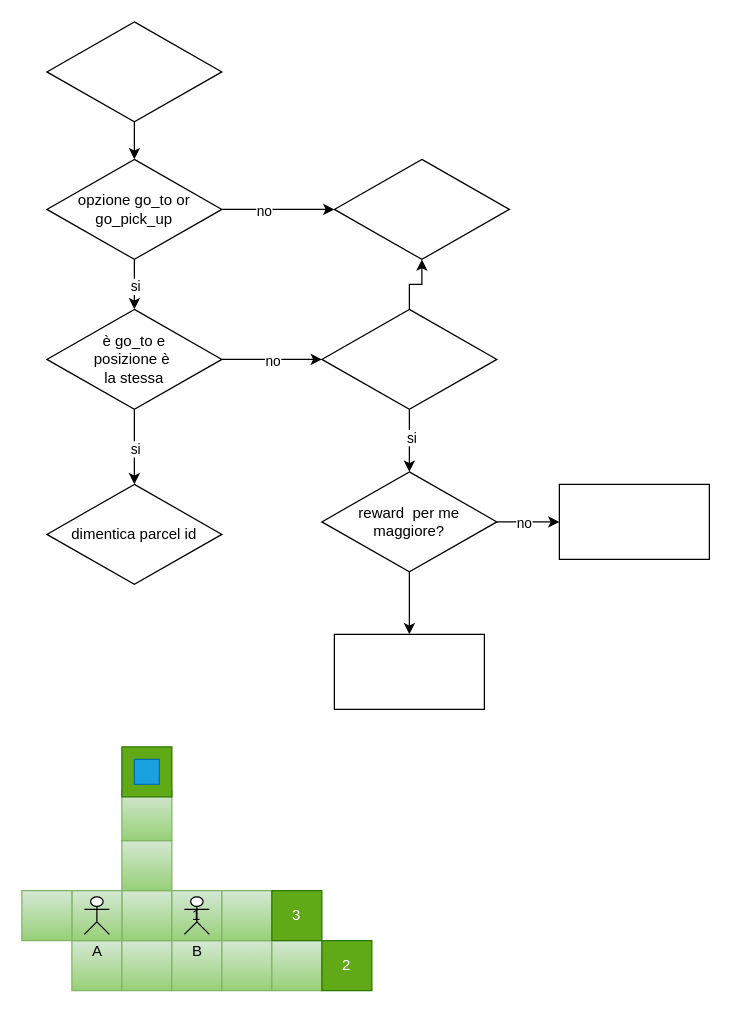
The diagram is 731 pixels wide and 1013 high, and some of its shapes have lost their labels. The centre of each missing label's shape, as x and y in pixels:
go ahead compagno io rigenero: the point at 633,521
go ahead io compagno rigenera: the point at 408,671
Go_ahead per entrambi: the point at 421,208
ricevo opzione: the point at 134,71
è go_pick_up e posizione è la stessa: the point at 409,358
